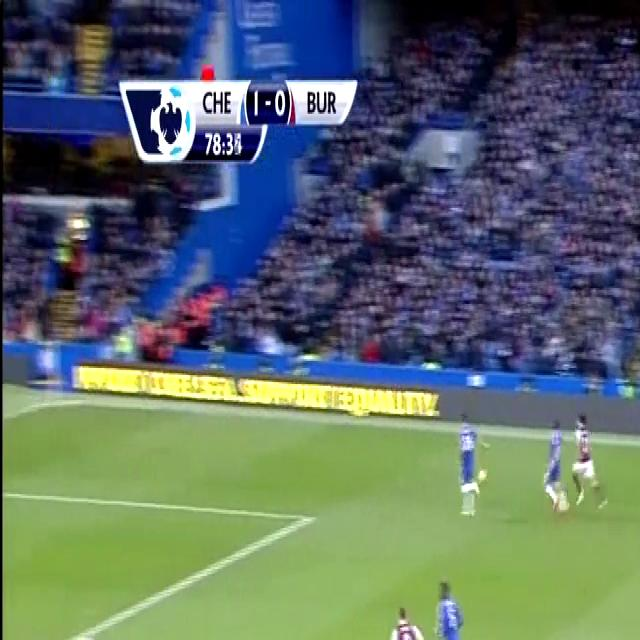soccer-player: (560, 397, 608, 525), (448, 402, 486, 522), (539, 403, 571, 520), (428, 562, 469, 640), (379, 594, 434, 640)
